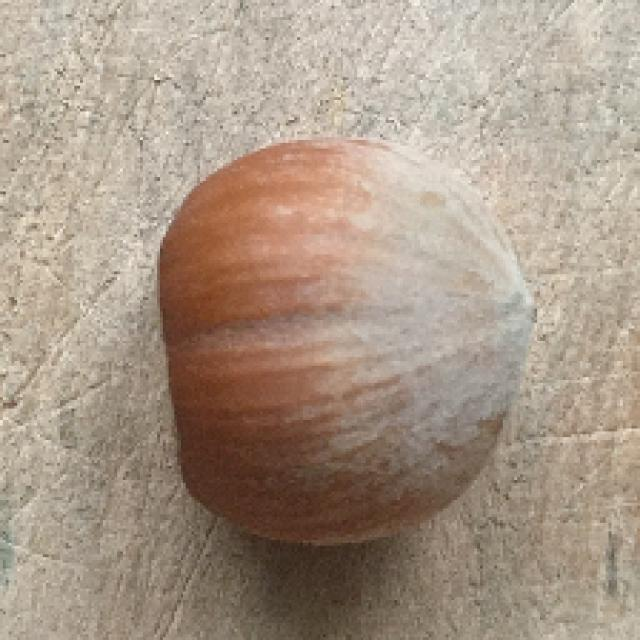qualityHazelnut: (160, 141, 537, 563)
